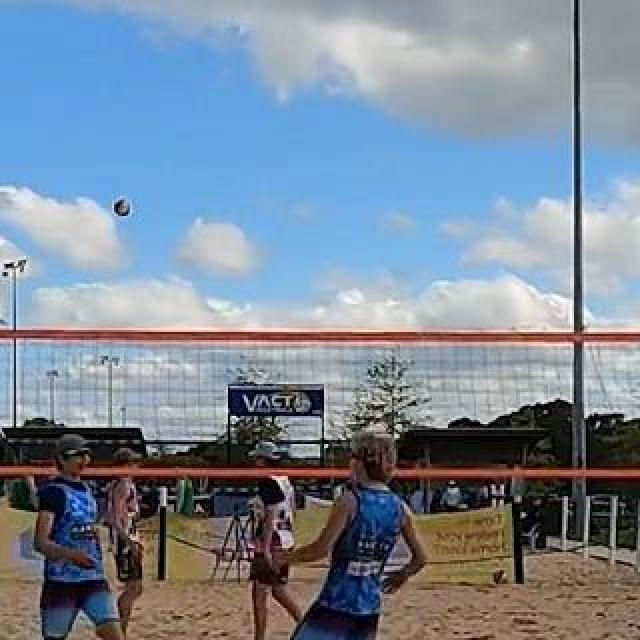volleyball: (112, 199, 130, 217), (493, 569, 509, 585)
